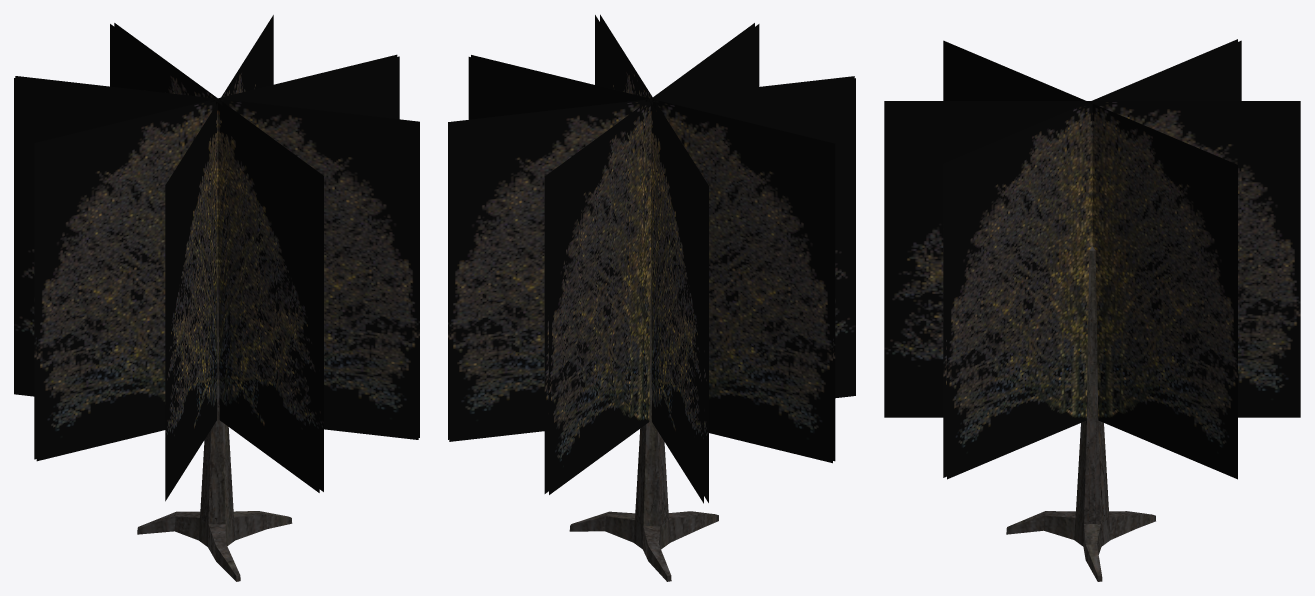
The model's file is tree03_winter.gltf.
3 renders of one model, left to right at view 1: azimuth 30°, elevation 25°; view 2: azimuth 150°, elevation 25°; view 3: azimuth 270°, elevation 25°, orthographic.
Visible parts, largest first — view 1: tree03_top, tree03; view 2: tree03_top, tree03; view 3: tree03_top, tree03.
Part boxes in pixels (x1=…): tree03_top: x1=14, y1=15, x2=419, y2=501; tree03: x1=137, y1=249, x2=292, y2=581; tree03_top: x1=448, y1=14, x2=855, y2=503; tree03: x1=569, y1=250, x2=718, y2=581; tree03_top: x1=884, y1=39, x2=1300, y2=479; tree03: x1=1006, y1=246, x2=1155, y2=581.
Bounding box in the file's own units: 3.36 × 3.94 × 3.36.
Materials: 1 (1 with a texture image).
